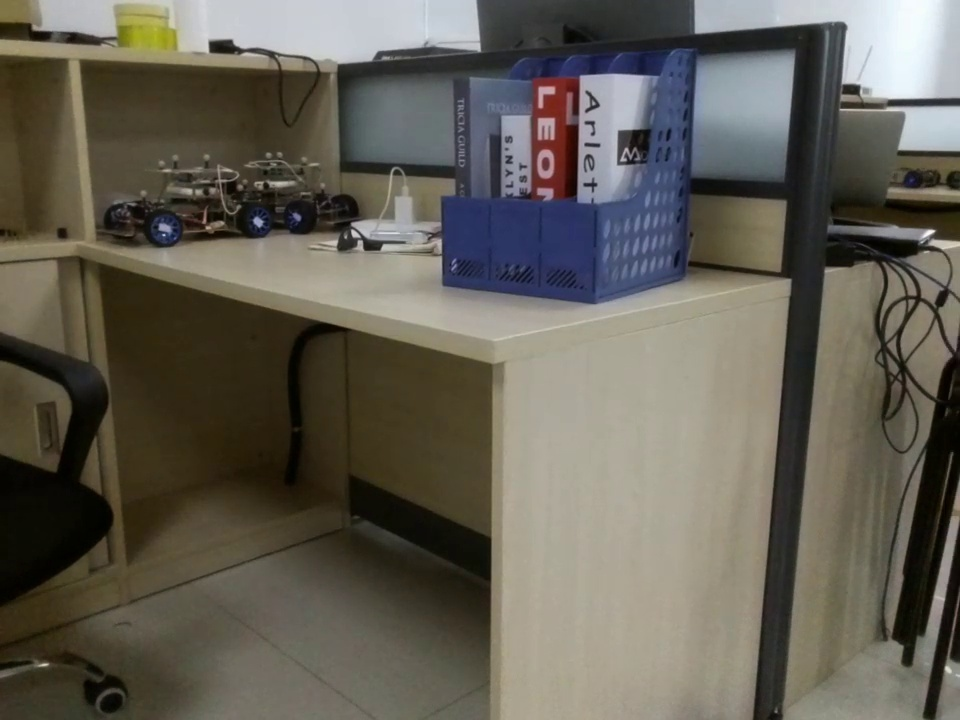files: (443, 46, 695, 309)
